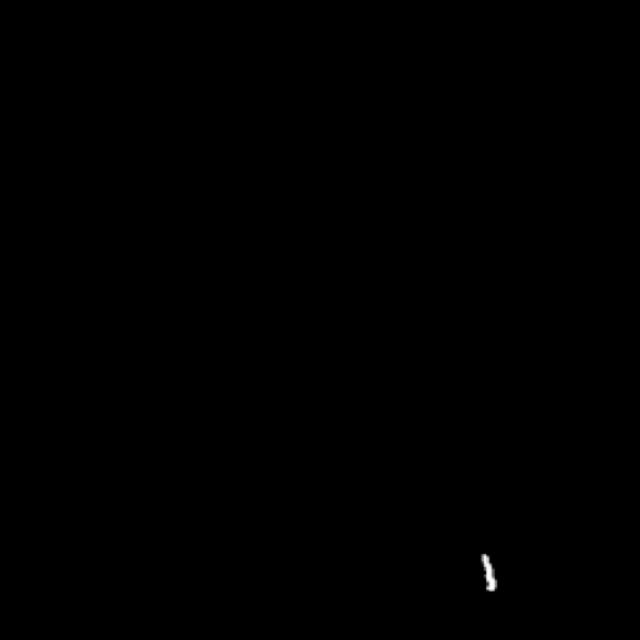one -1-: (458, 541, 516, 609)
